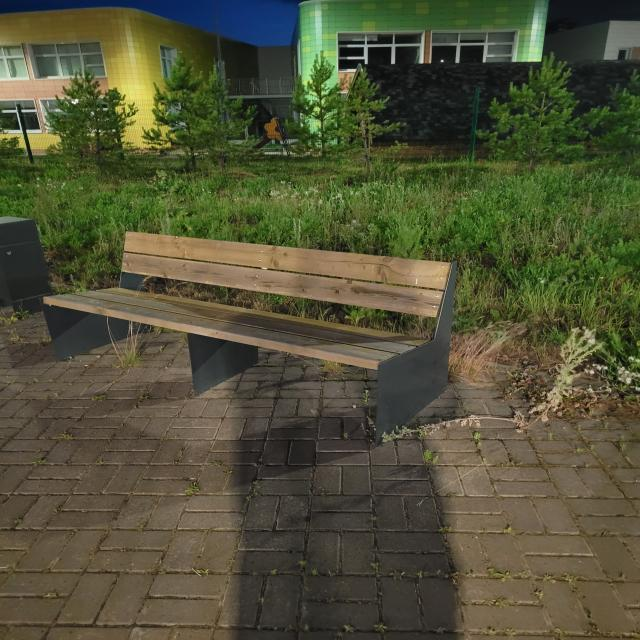Bench: (44, 231, 457, 447)
